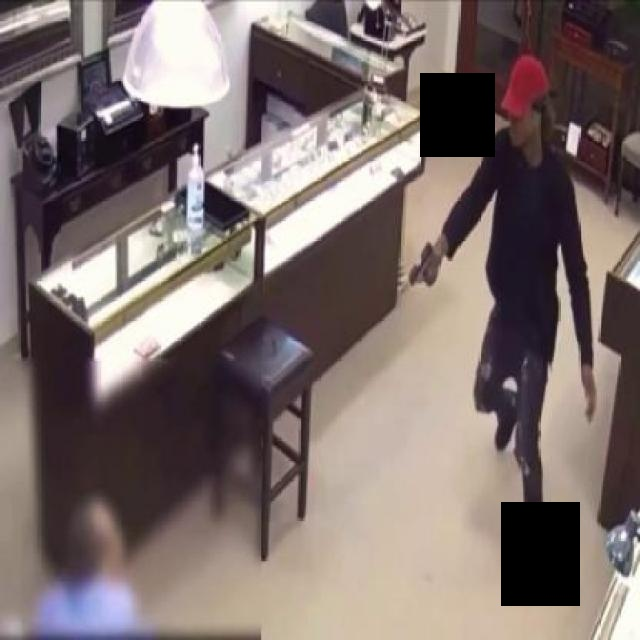gun: (401, 240, 443, 297)
